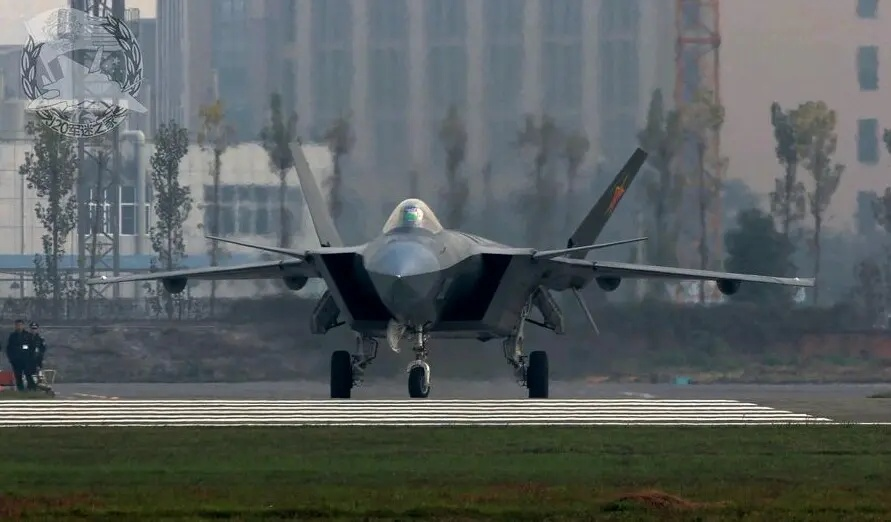J20: (85, 141, 816, 399)
